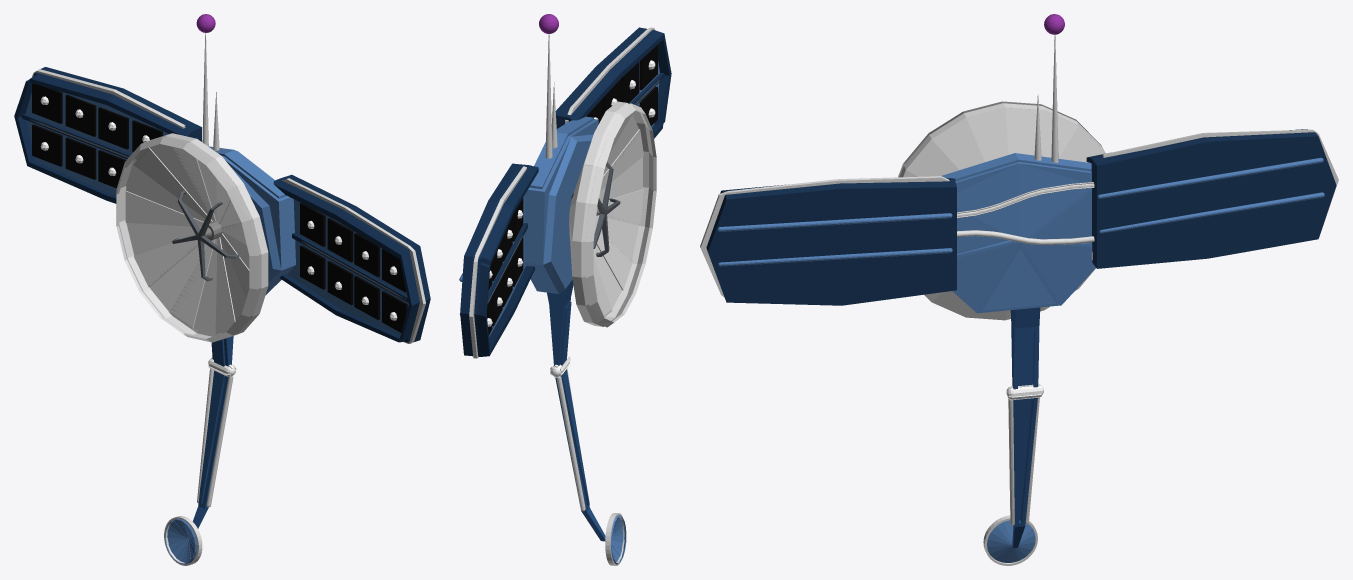
Rendered from CUPIC_SATTELITE.obj.
The picture shows the model from 3 angles, left to right: view 1: azimuth 30°, elevation 25°; view 2: azimuth 150°, elevation 25°; view 3: azimuth 270°, elevation 25°; orthographic projection. The views are drawn at different scales.
Bounding box in the file's own units: 287 × 1083 × 1093.
